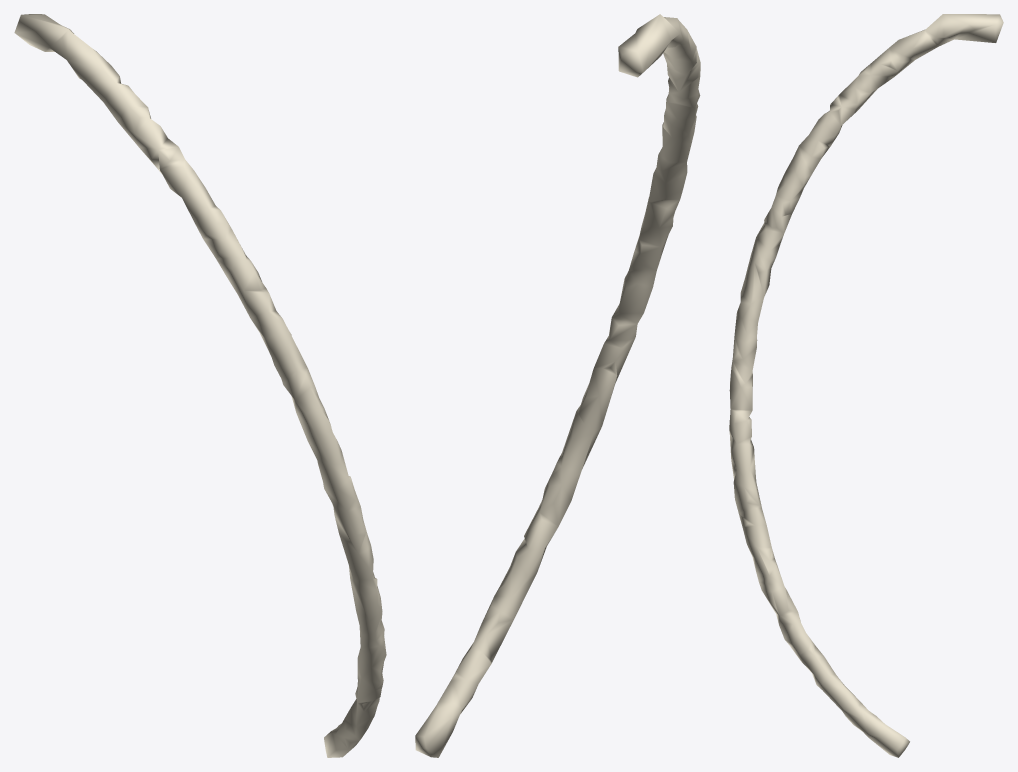
The model's file is rib_9_l.glb.
The picture shows the model from 3 angles, left to right: view 1: azimuth 30°, elevation 25°; view 2: azimuth 150°, elevation 25°; view 3: azimuth 270°, elevation 25°; orthographic projection. The views are drawn at different scales.
Visible parts, largest first — view 1: geometry_0; view 2: geometry_0; view 3: geometry_0.
Boxes of the visible parts, x1=… form: geometry_0: x1=14, y1=14, x2=386, y2=757; geometry_0: x1=415, y1=14, x2=700, y2=757; geometry_0: x1=729, y1=14, x2=1003, y2=757.
Size of the model in its own units: 0.4489 by 1.2 by 0.4649.
